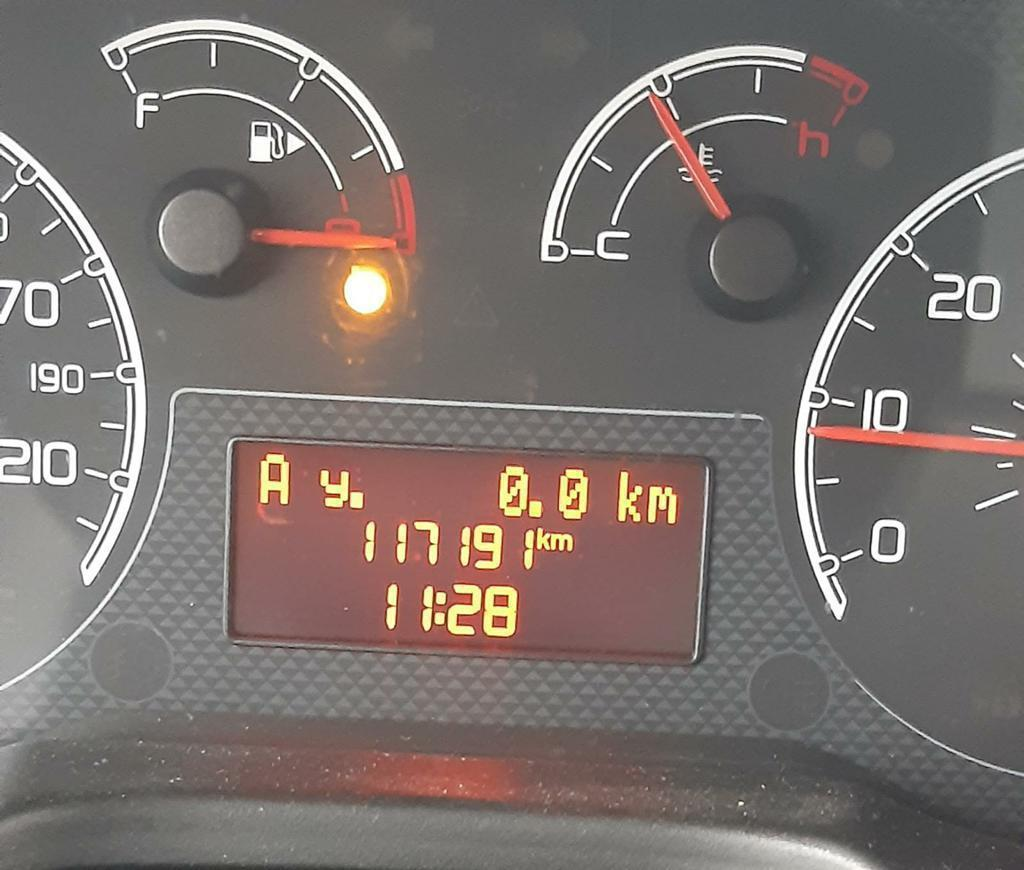,: (348, 488, 365, 510), (527, 496, 543, 518)
0: (555, 463, 590, 522), (495, 460, 530, 517)
1: (382, 581, 399, 631), (418, 582, 434, 634), (392, 520, 409, 564), (361, 518, 377, 564), (457, 522, 472, 567), (520, 527, 534, 571)
2: (446, 580, 482, 637)
7: (410, 518, 442, 566)
8: (483, 582, 520, 639)
9: (473, 522, 505, 570)
X: (255, 450, 293, 507), (614, 468, 645, 526), (316, 465, 349, 511), (645, 482, 679, 526), (550, 530, 575, 552), (434, 589, 447, 626), (535, 525, 550, 551)
odometer: (219, 432, 715, 667)
